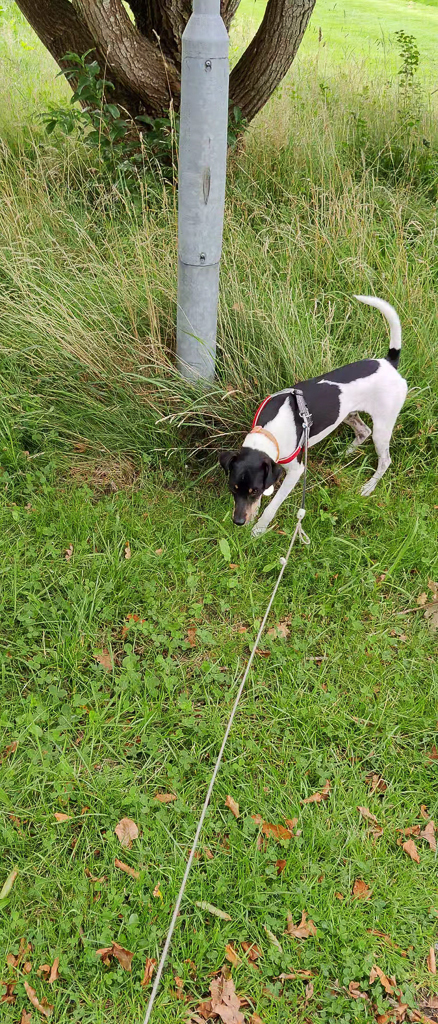Dog: (207, 289, 416, 544)
